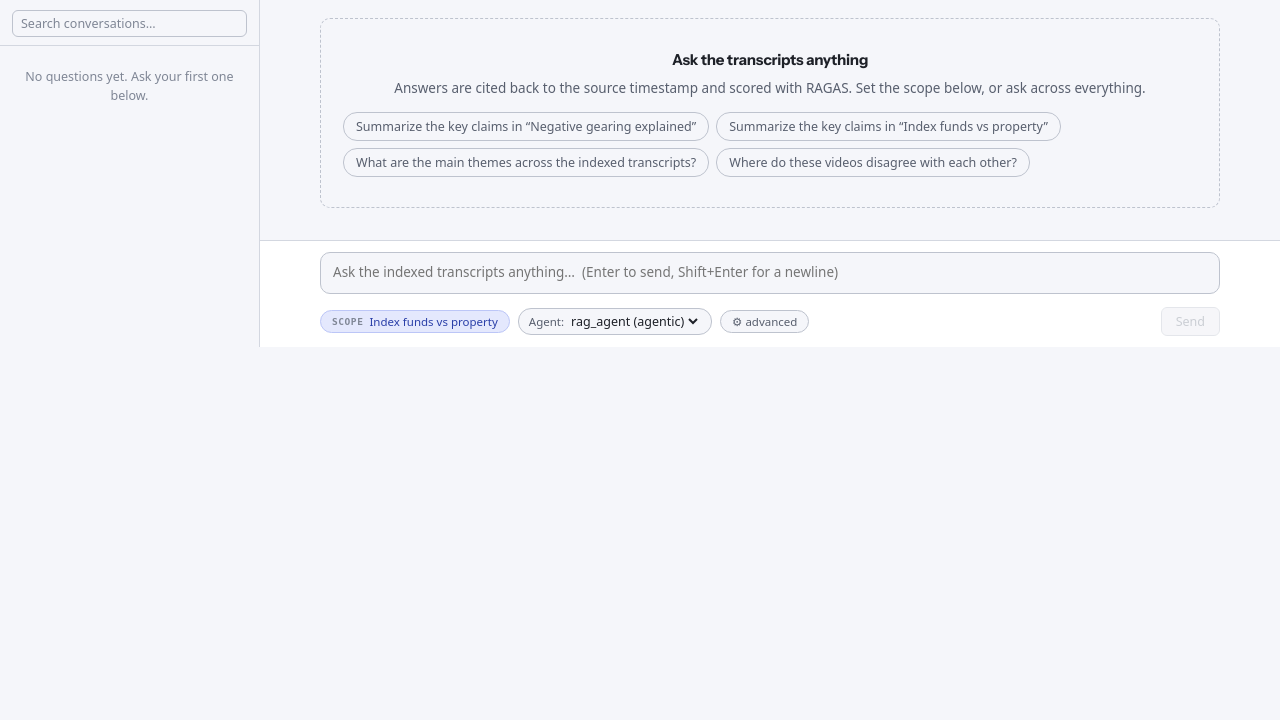
Scenario: ChatView pending scope › adopts the pinned video and its owning channel
Click the button with aria-label "Retrieval scope:": (415, 322) [320,310,510,333]
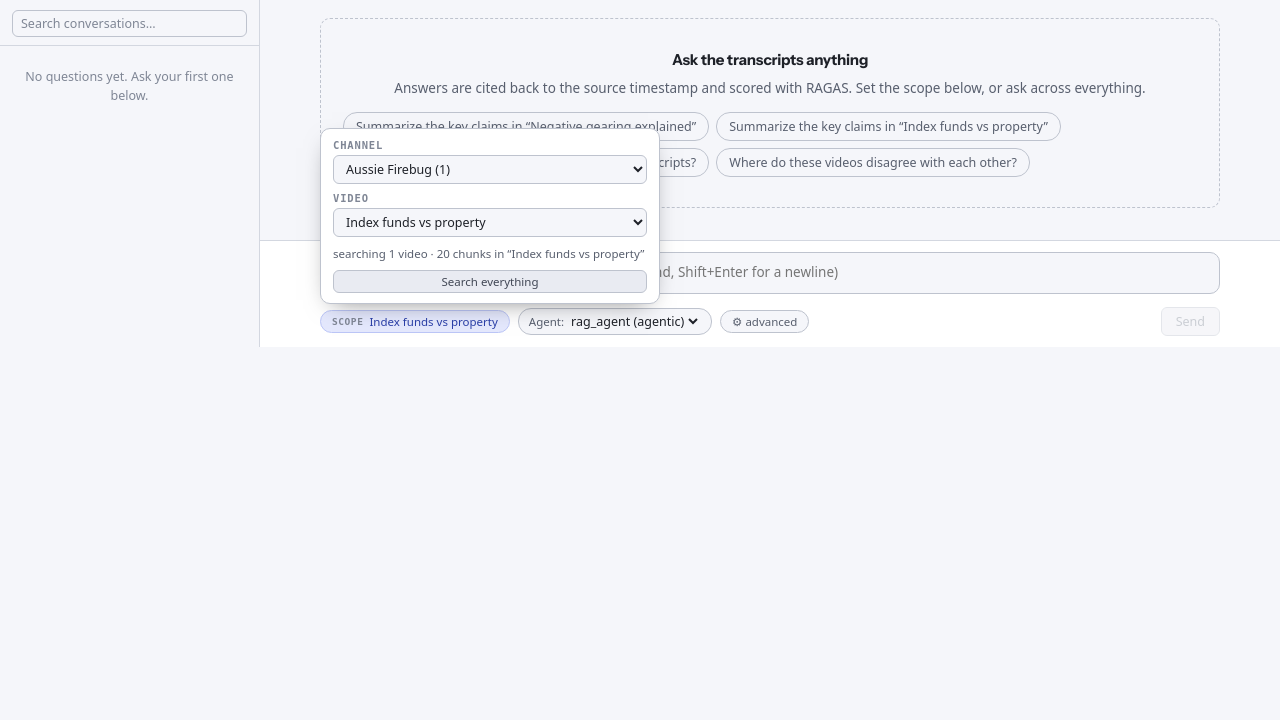
expect the dropdown named "Video scope" shows "Index funds vs property": met, box [333,208,647,237]
expect the dropdown named "Channel scope" shows "Aussie Firebug (1)": met, box [333,155,647,184]
expect the text "searching 1 video · 20 chunks in “Index funds vs property”" is shown: met, box [333,245,647,262]
